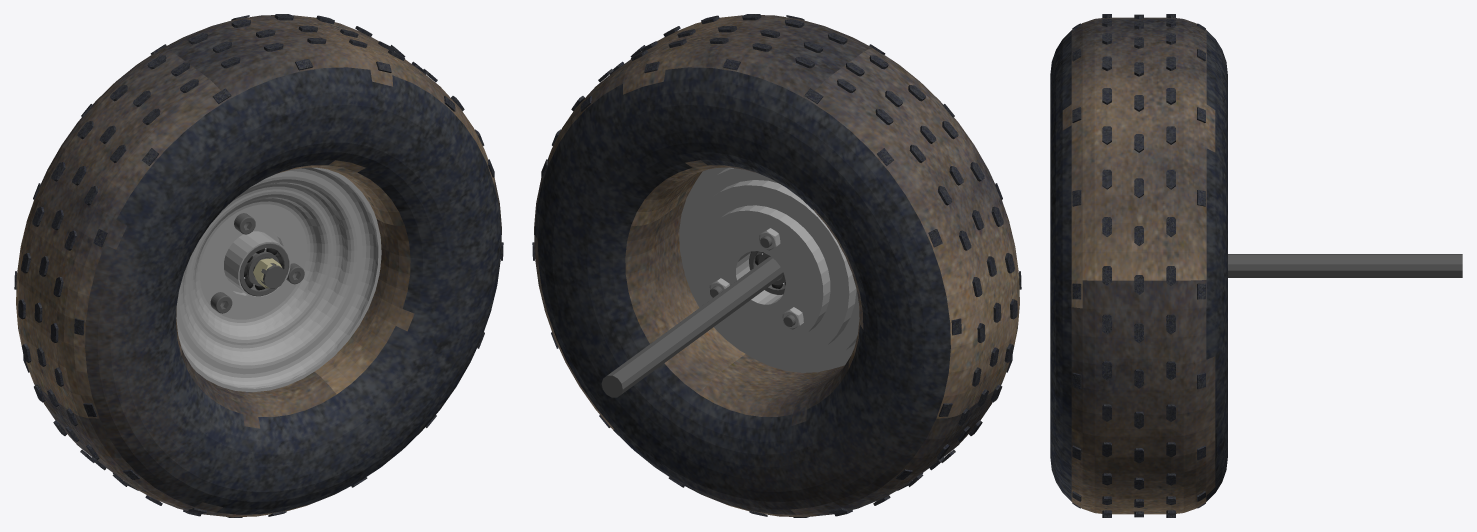
Rendered from RDI_Link.fbx.
3 renders of one model, left to right at view 1: azimuth 30°, elevation 25°; view 2: azimuth 150°, elevation 25°; view 3: azimuth 270°, elevation 25°, orthographic.
Parts seen in each view (by area): view 1: Neumatico_1, Llanta, Neumatico_2, Cilindro Rodamiento; view 2: Neumatico_1, Llanta, Neumatico_2, Eje; view 3: Neumatico_1, Neumatico_2, Eje.
Boxes of the visible parts, x1=… form: Neumatico_1: x1=16, y1=15, x2=501, y2=517; Llanta: x1=176, y1=167, x2=381, y2=391; Neumatico_2: x1=14, y1=14, x2=503, y2=517; Cilindro Rodamiento: x1=239, y1=243, x2=288, y2=296; Neumatico_1: x1=534, y1=15, x2=1019, y2=517; Llanta: x1=679, y1=167, x2=859, y2=372; Neumatico_2: x1=532, y1=14, x2=1021, y2=517; Eje: x1=601, y1=256, x2=783, y2=397; Neumatico_1: x1=1050, y1=17, x2=1227, y2=514; Neumatico_2: x1=1072, y1=14, x2=1205, y2=517; Eje: x1=1228, y1=254, x2=1462, y2=277.
Bounding box in the file's own units: 35.46 × 35.46 × 29.03.
